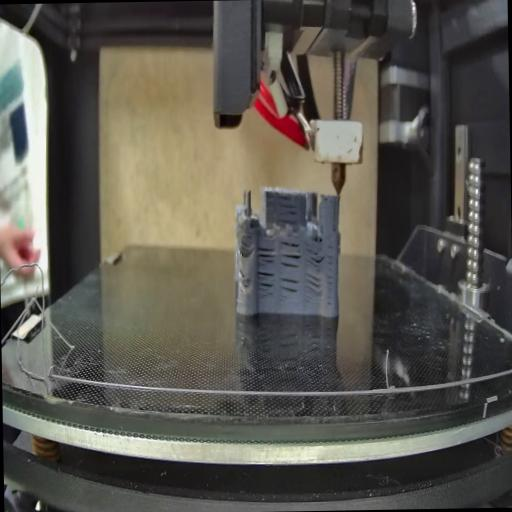cracks: (278, 240, 302, 272), (276, 194, 300, 226), (279, 274, 300, 306), (256, 269, 276, 298), (325, 250, 335, 306), (304, 244, 324, 269), (304, 273, 322, 299), (258, 244, 277, 266), (238, 235, 250, 259), (330, 219, 339, 235), (237, 266, 246, 282)
